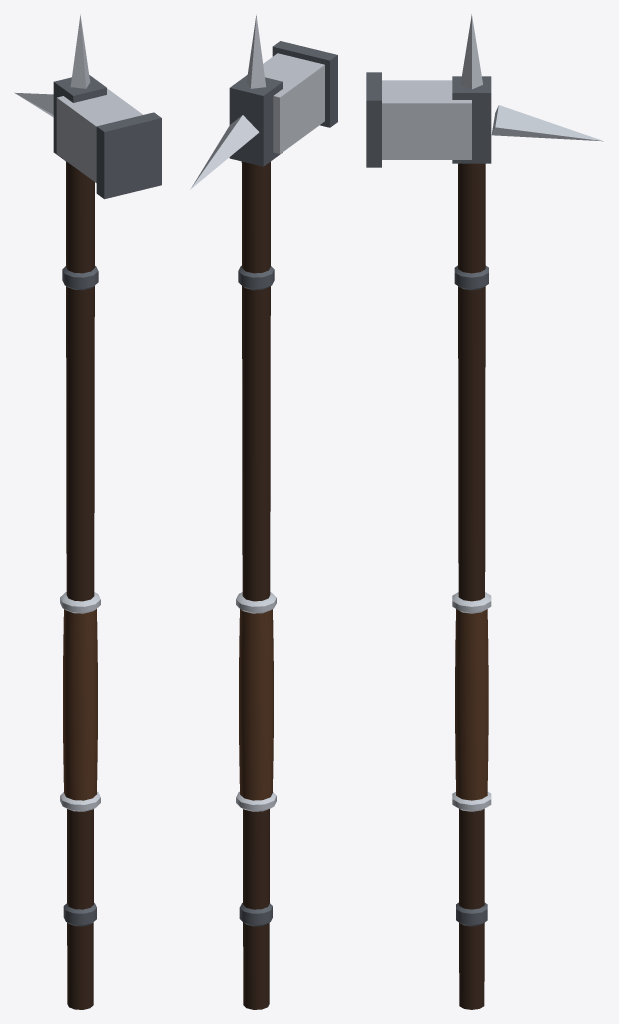
File: hammer_war.glb
3 views of the same model, side by side, from view 1: azimuth 30°, elevation 25°; view 2: azimuth 150°, elevation 25°; view 3: azimuth 270°, elevation 25° (orthographic).
Visible parts, largest first — view 1: hammer_war; view 2: hammer_war; view 3: hammer_war.
Boxes of the visible parts, bbox=[...] form: hammer_war: bbox=[14, 14, 161, 1009]; hammer_war: bbox=[190, 14, 337, 1009]; hammer_war: bbox=[366, 14, 603, 1009].
Size of the model in its own units: 0.085 by 1.4 by 0.305.
